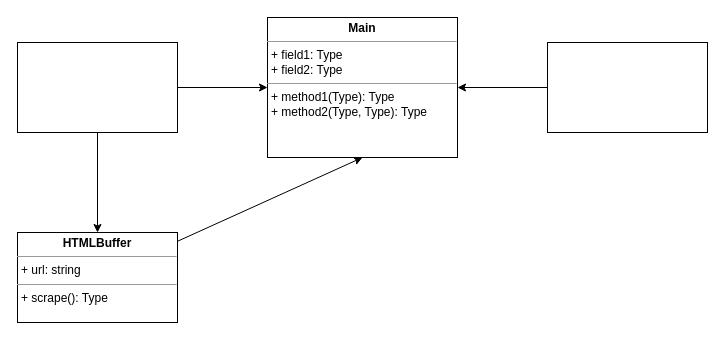
This 725x340 diagram has some shape labels left out. Here are the shapes that lost their labels. From the top down, the box of each, then its label:
(16, 42, 178, 132): Scraper + url: string + scrape(): Type
(546, 42, 708, 132): Parser + field: Type + method(): Type
